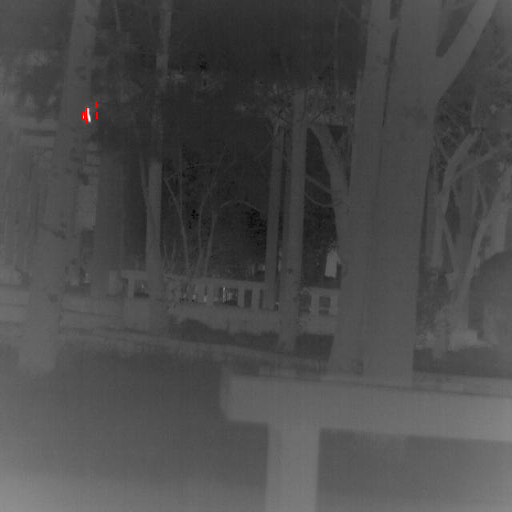Target: (86, 107, 91, 123), (82, 112, 84, 119), (95, 101, 96, 107), (96, 112, 97, 118)
